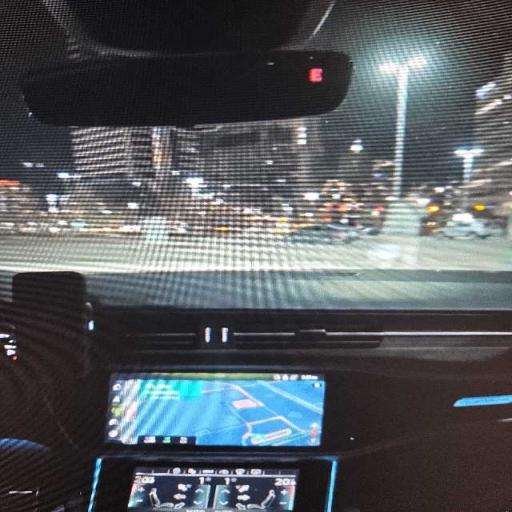car: (0, 0, 511, 511), (286, 224, 360, 244), (436, 219, 491, 239)
lane: (0, 237, 511, 273)
